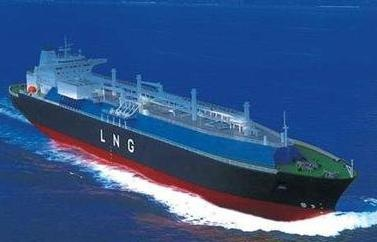Cargoship: (7, 31, 358, 224)
